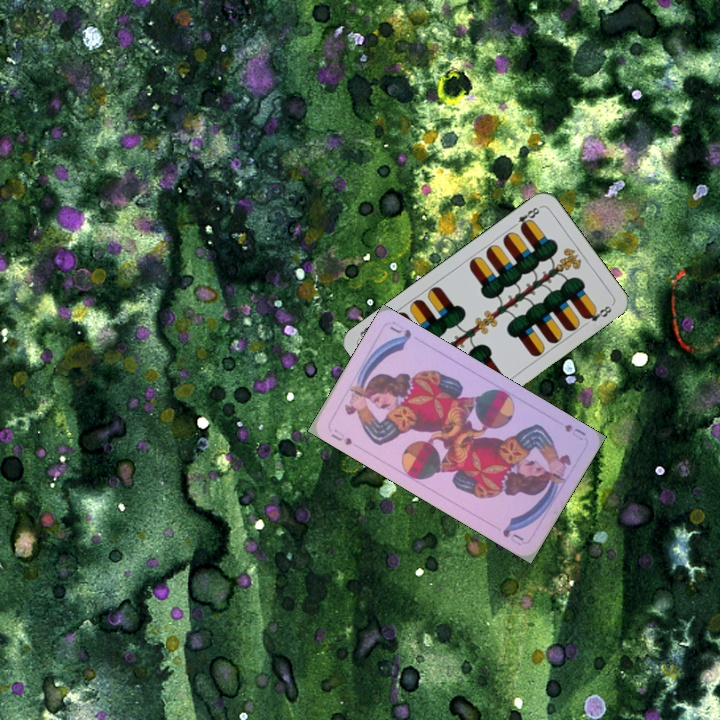E8: (508, 203, 543, 232)
SU: (560, 420, 589, 443), (327, 425, 355, 448)
